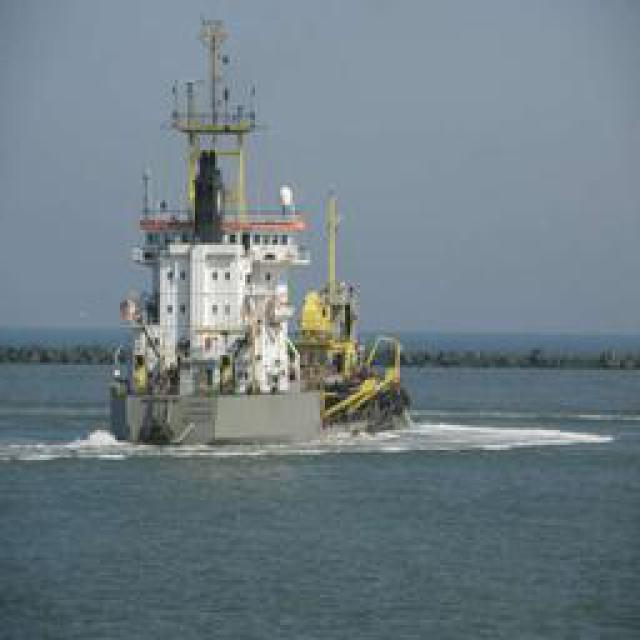Ship: (107, 19, 397, 464)
